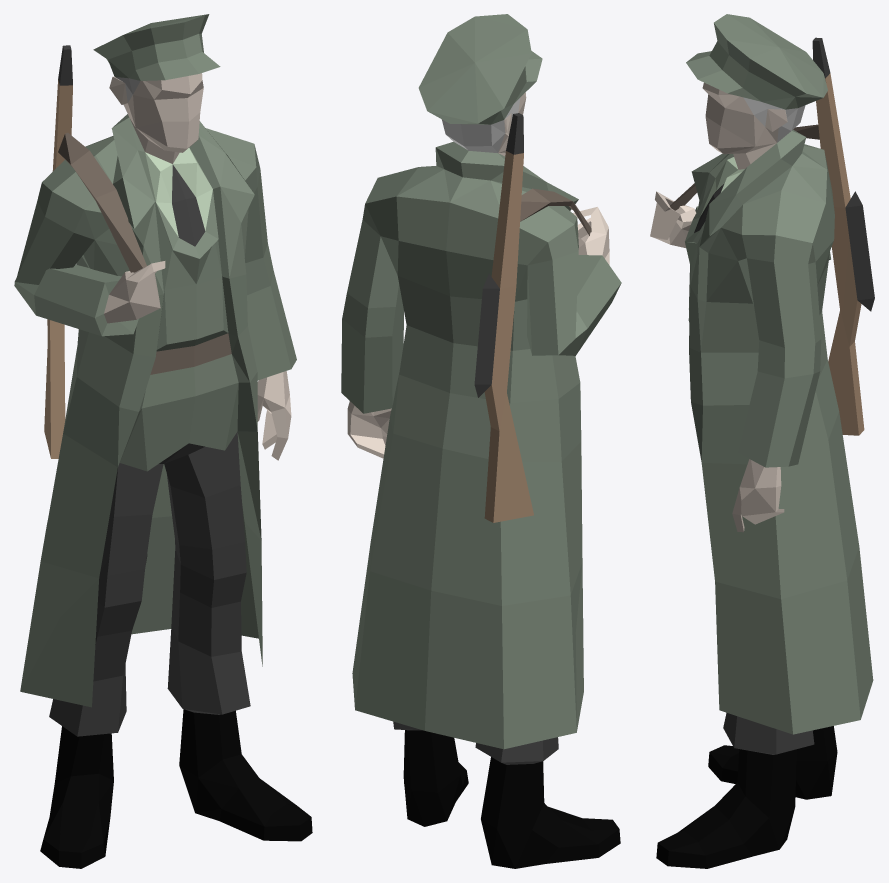
The model's file is low-poly_wise_man_sucker_punch.glb.
3 renders of one model, left to right at view 1: azimuth 30°, elevation 25°; view 2: azimuth 150°, elevation 25°; view 3: azimuth 270°, elevation 25°, orthographic. The views are drawn at different scales.
Parts seen in each view (by area): view 1: WiseMan.obj_Green-Camo_0, WiseMan.obj_Black_0, WiseMan.obj_Black-Dark_0, WiseMan.obj_Skin_Cau_0, WiseMan.obj_Brown_0, WiseMan.obj_Orange-Dark_0, WiseMan.obj_Green-Light_0; view 2: WiseMan.obj_Green-Camo_0, WiseMan.obj_Black-Dark_0, WiseMan.obj_Orange-Dark_0, WiseMan.obj_Black_0, WiseMan.obj_Skin_Cau_0, WiseMan.obj_Gray-Light_0, WiseMan.obj_Brown_0; view 3: WiseMan.obj_Green-Camo_0, WiseMan.obj_Black-Dark_0, WiseMan.obj_Skin_Cau_0, WiseMan.obj_Orange-Dark_0, WiseMan.obj_Black_0, WiseMan.obj_Gray-Light_0, WiseMan.obj_Green-Light_0, WiseMan.obj_Brown_0.
Boxes of the visible parts, x1=… form: WiseMan.obj_Green-Camo_0: x1=14, y1=14, x2=296, y2=707; WiseMan.obj_Black_0: x1=49, y1=45, x2=250, y2=736; WiseMan.obj_Black-Dark_0: x1=40, y1=709, x2=312, y2=868; WiseMan.obj_Skin_Cau_0: x1=104, y1=73, x2=291, y2=460; WiseMan.obj_Brown_0: x1=58, y1=132, x2=231, y2=374; WiseMan.obj_Orange-Dark_0: x1=44, y1=79, x2=72, y2=458; WiseMan.obj_Green-Light_0: x1=145, y1=147, x2=212, y2=236; WiseMan.obj_Green-Camo_0: x1=341, y1=14, x2=621, y2=749; WiseMan.obj_Black-Dark_0: x1=403, y1=730, x2=620, y2=868; WiseMan.obj_Orange-Dark_0: x1=484, y1=151, x2=533, y2=522; WiseMan.obj_Black_0: x1=393, y1=113, x2=558, y2=764; WiseMan.obj_Skin_Cau_0: x1=347, y1=92, x2=609, y2=458; WiseMan.obj_Gray-Light_0: x1=441, y1=98, x2=520, y2=152; WiseMan.obj_Brown_0: x1=520, y1=188, x2=591, y2=235; WiseMan.obj_Green-Camo_0: x1=685, y1=14, x2=873, y2=734; WiseMan.obj_Black-Dark_0: x1=656, y1=726, x2=837, y2=868; WiseMan.obj_Skin_Cau_0: x1=650, y1=82, x2=787, y2=532; WiseMan.obj_Orange-Dark_0: x1=816, y1=73, x2=864, y2=435; WiseMan.obj_Black_0: x1=694, y1=37, x2=874, y2=754; WiseMan.obj_Gray-Light_0: x1=743, y1=97, x2=805, y2=142; WiseMan.obj_Green-Light_0: x1=700, y1=157, x2=744, y2=226; WiseMan.obj_Brown_0: x1=670, y1=124, x2=819, y2=210.
Bounding box in the file's own units: 0.665 × 2 × 0.5142.
